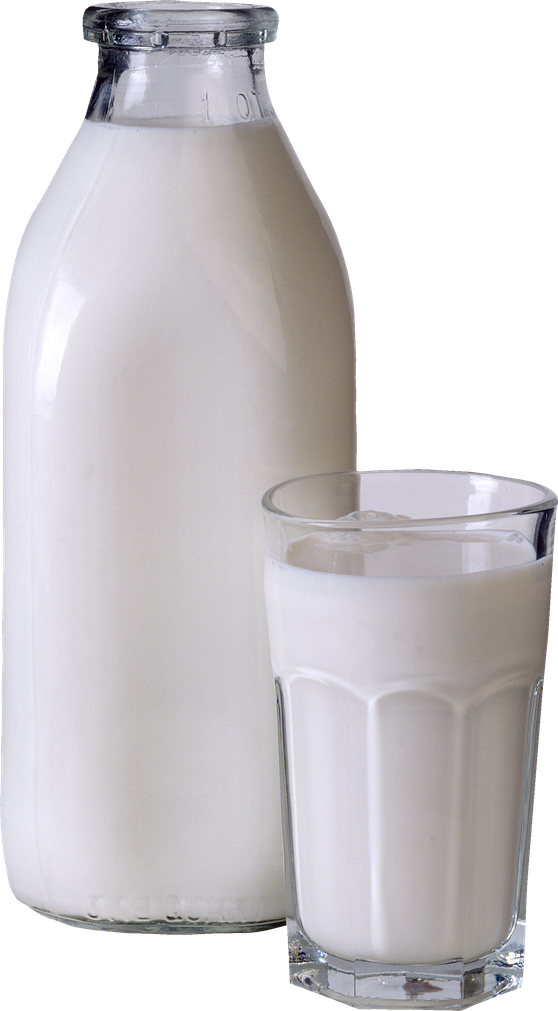milk: (1, 1, 381, 945)
